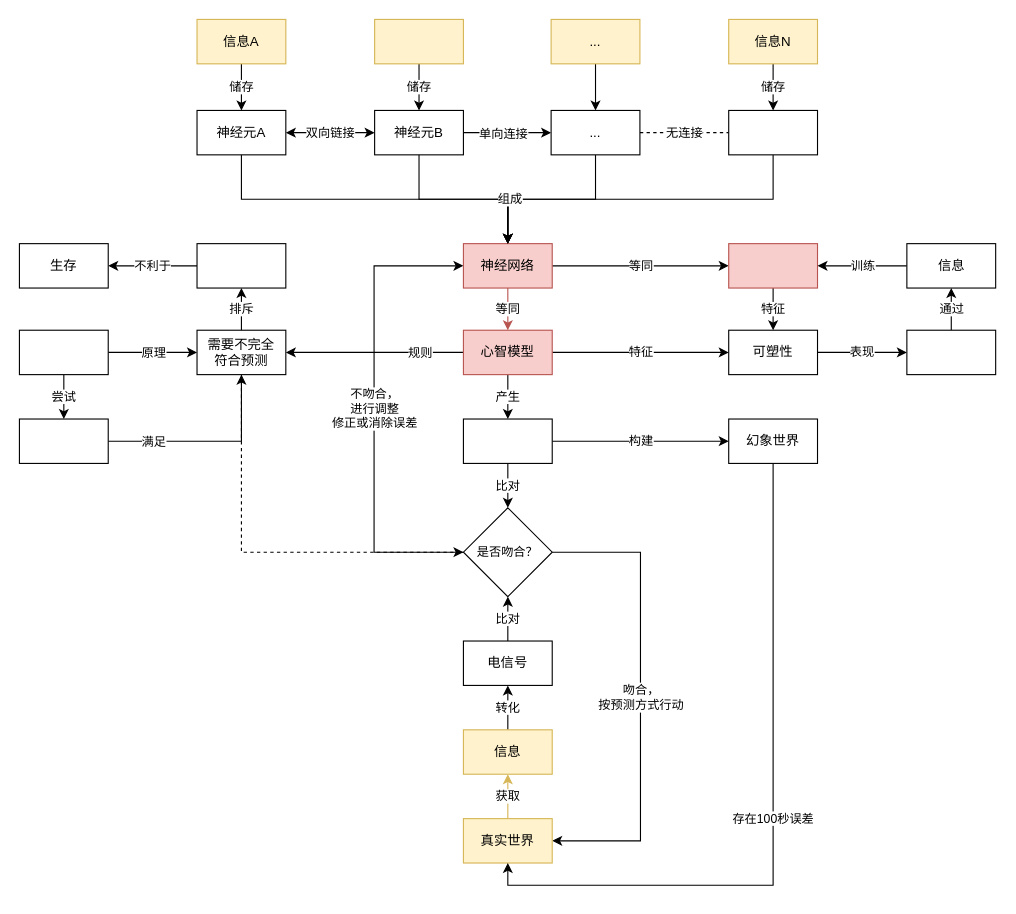
Image size: 1016x914. Some labels were removed from this diagram. The shapes that lost their labels are listed below. From the top down, each one's centre as x and y in pixels, then its label:
pixel 418 41: 信息B
pixel 773 132: 神经元N
pixel 241 265: 一成不变
pixel 773 265: 叶贝斯大脑
pixel 63 352: 无聊
pixel 951 352: 用进废退
pixel 63 440: 15%新鲜感
pixel 507 440: 预测信号
